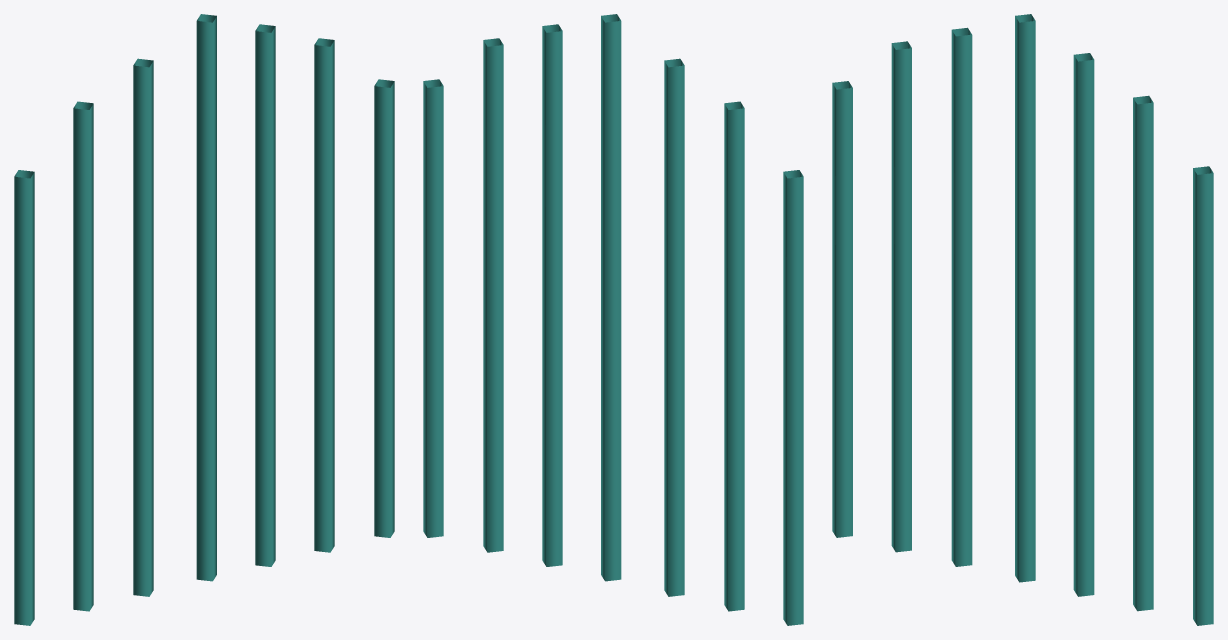
The model's file is WindowsC_1.fbx.
3 renders of one model, left to right at view 1: azimuth 30°, elevation 25°; view 2: azimuth 150°, elevation 25°; view 3: azimuth 330°, elevation 25°, orthographic.
Visible parts, largest first — view 1: WindowC_1; view 2: WindowC_1; view 3: WindowC_1.
Boxes of the visible parts, left/top/right/bottom form: WindowC_1: left=14, top=14, right=394, bottom=625; WindowC_1: left=423, top=14, right=803, bottom=625; WindowC_1: left=832, top=14, right=1213, bottom=625.
Size of the model in its own units: 63.61 by 89.25 by 3.43.
